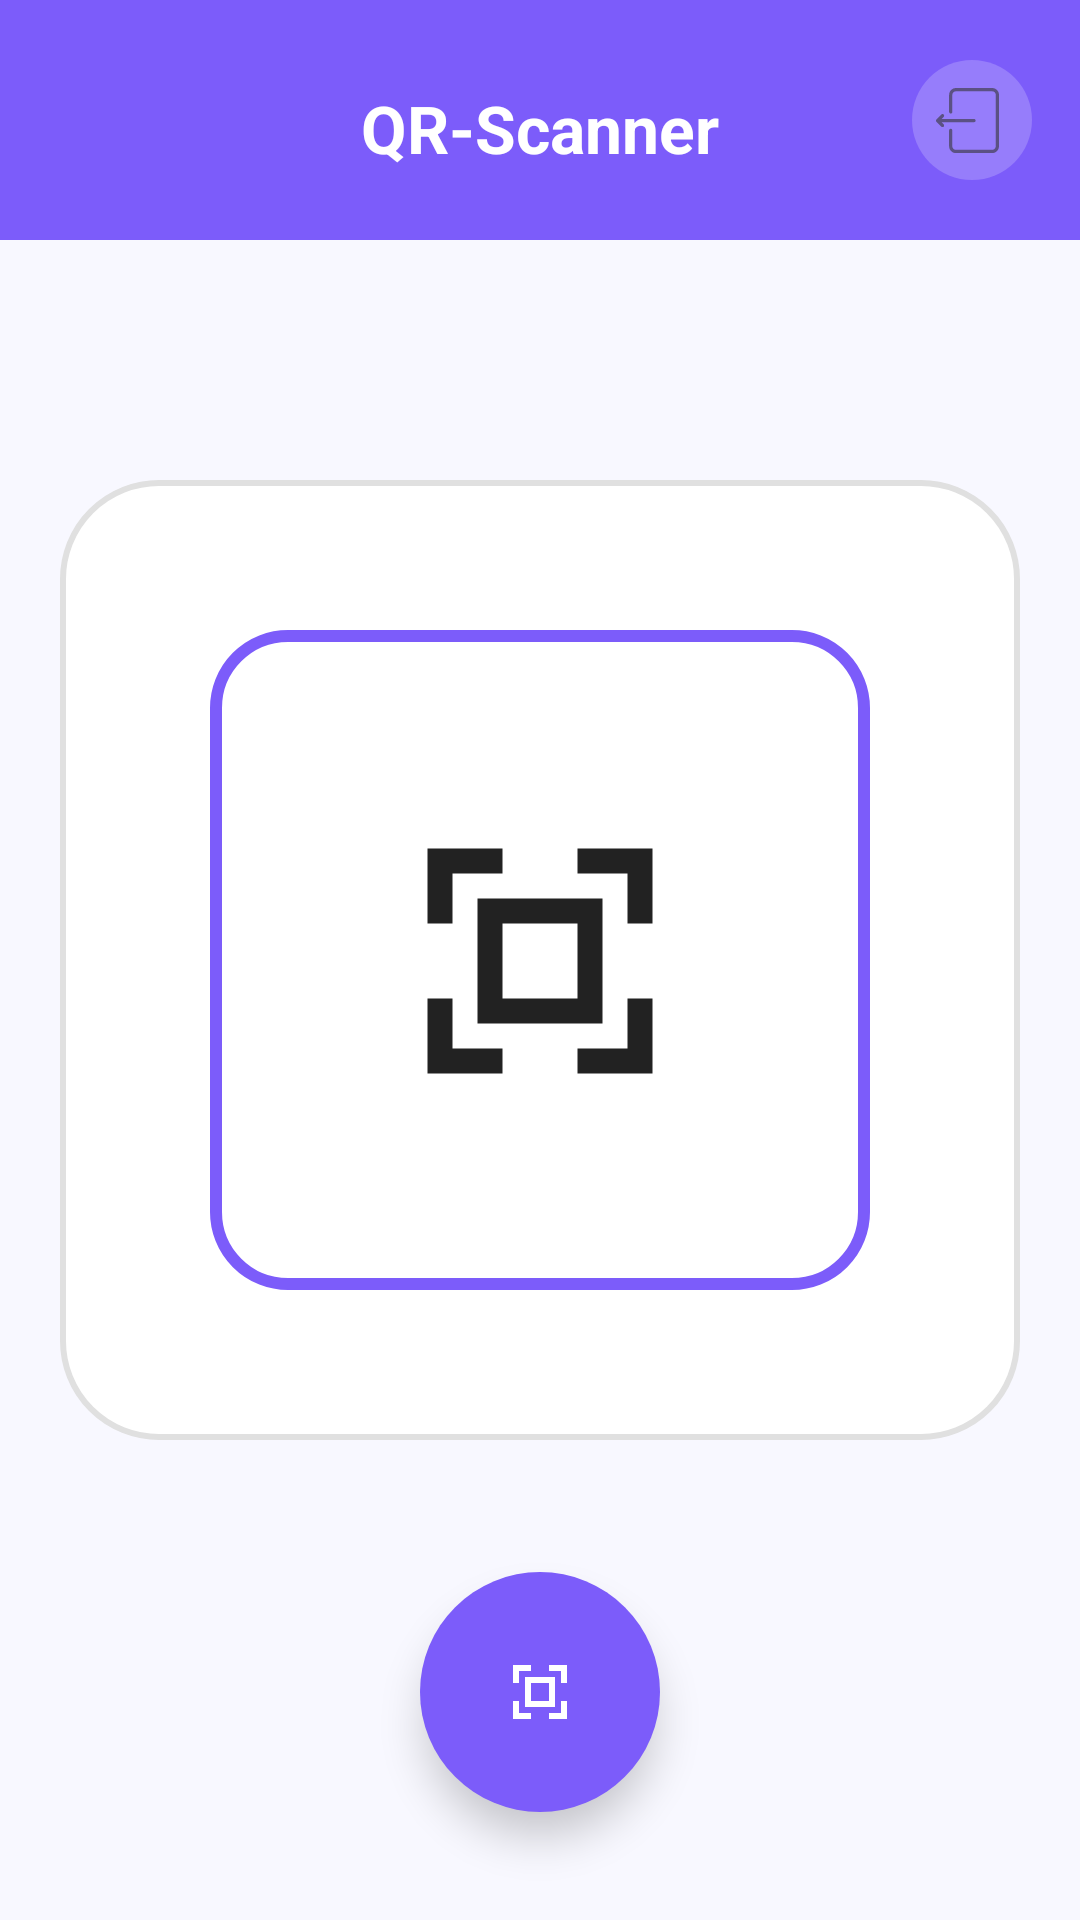

Where icons sit on this 1080 × 1920 app screen, as {"x1": x1, "y1": y1, "x2": x2, "y2": y2}:
Scan QR Code: {"x1": 420, "y1": 1572, "x2": 660, "y2": 1812}
